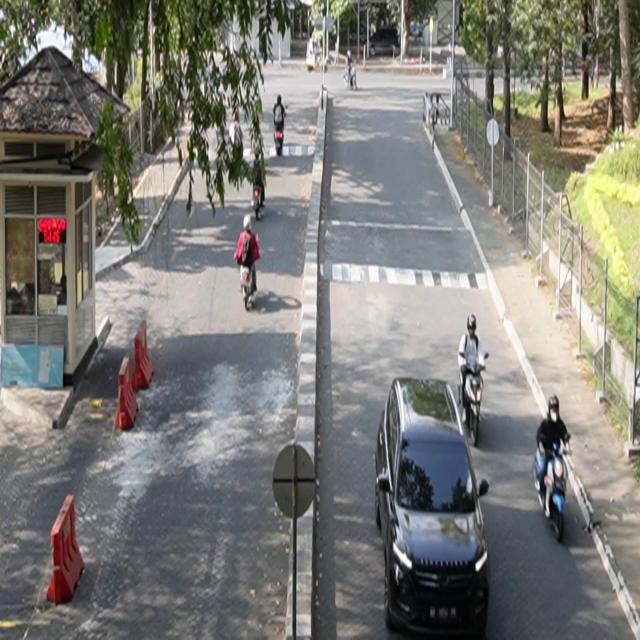car: (375, 377, 492, 639)
